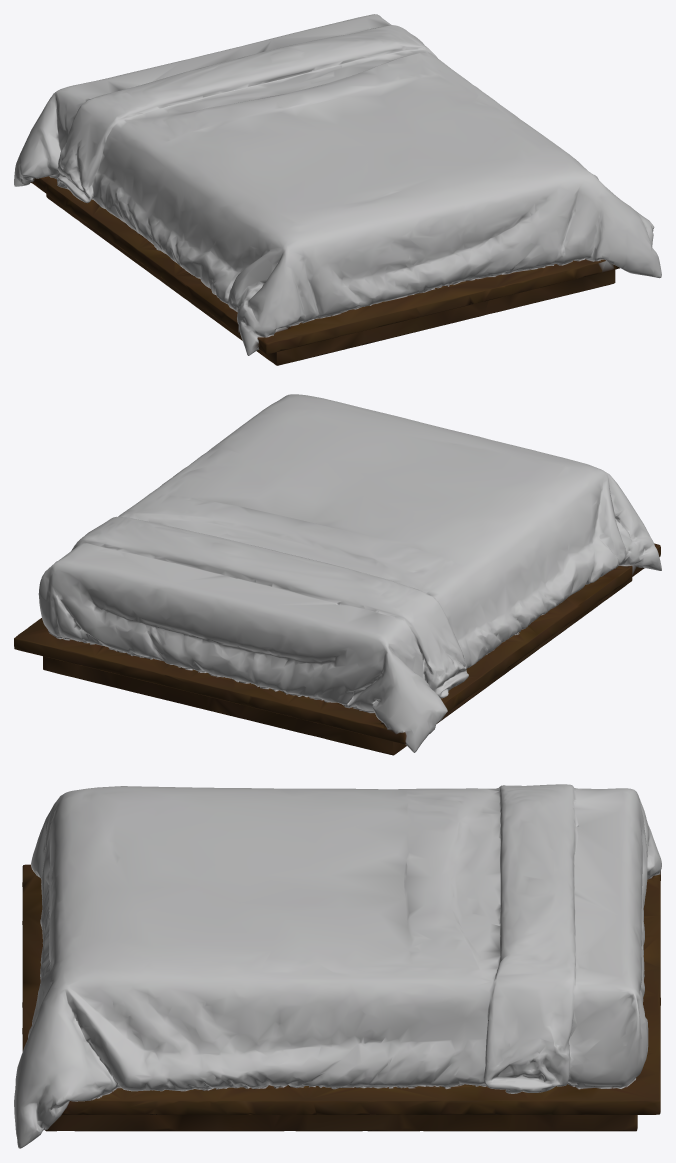
Rendered from bed.glb.
3 renders of one model, top to bottom at view 1: azimuth 30°, elevation 25°; view 2: azimuth 150°, elevation 25°; view 3: azimuth 270°, elevation 25°, orthographic. The views are drawn at different scales.
Bounding box in the file's own units: 0.959 × 0.2685 × 0.9961.
